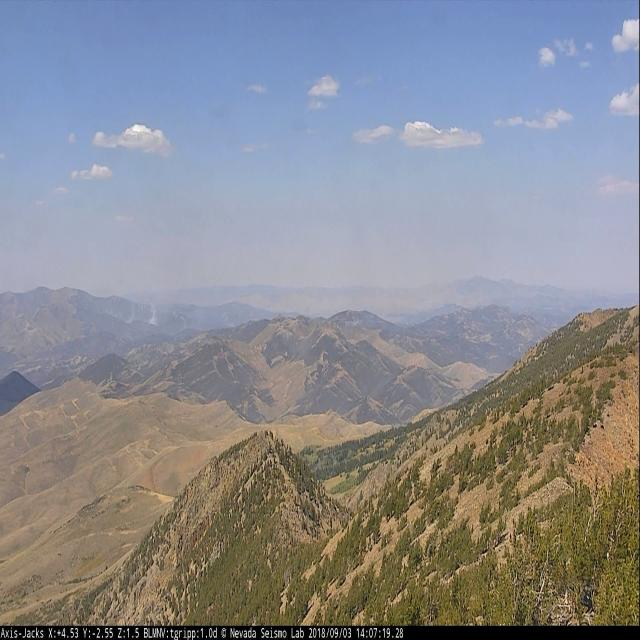smoke: (125, 300, 158, 326)
